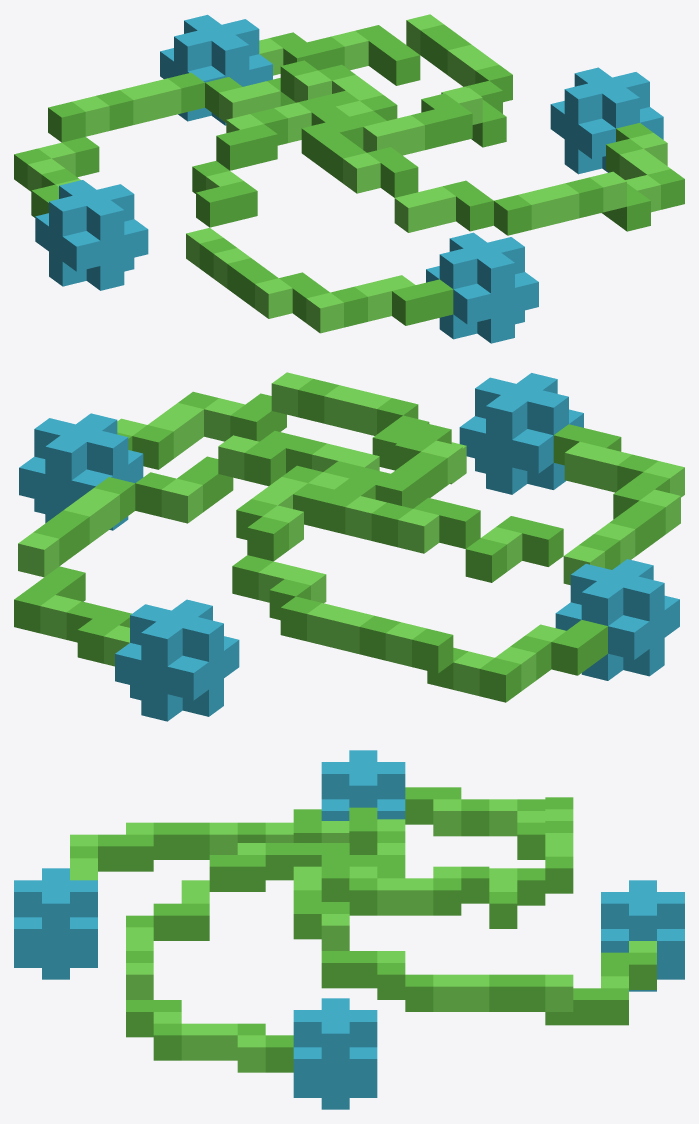
The model's file is vfx_dinotamer_pinata_net_thrown_01.fbx.
3 views of the same model, one above another, from view 1: azimuth 30°, elevation 25°; view 2: azimuth 150°, elevation 25°; view 3: azimuth 270°, elevation 25° (orthographic). The views are drawn at different scales.
Visible parts, largest first — view 1: model_vfx_dinoTamer_pinata_net_thrown_01_obj; view 2: model_vfx_dinoTamer_pinata_net_thrown_01_obj; view 3: model_vfx_dinoTamer_pinata_net_thrown_01_obj.
Part boxes in pixels (x1,y1,x2,y2): model_vfx_dinoTamer_pinata_net_thrown_01_obj: (14, 14, 684, 343); model_vfx_dinoTamer_pinata_net_thrown_01_obj: (14, 372, 684, 721); model_vfx_dinoTamer_pinata_net_thrown_01_obj: (14, 750, 684, 1109).
Bounding box in the file's own units: 24 × 4 × 24.
